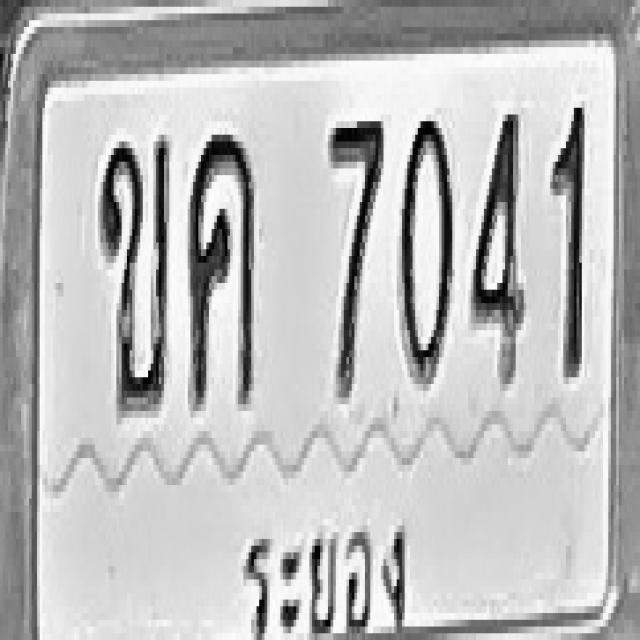0: (400, 115, 452, 384)
1: (550, 101, 585, 377)
11KhorKhai: (98, 132, 169, 414)
13KhorKhwai: (188, 125, 254, 408)
4: (471, 108, 524, 384)
7: (328, 115, 383, 398)
Rayong: (224, 505, 421, 640)
